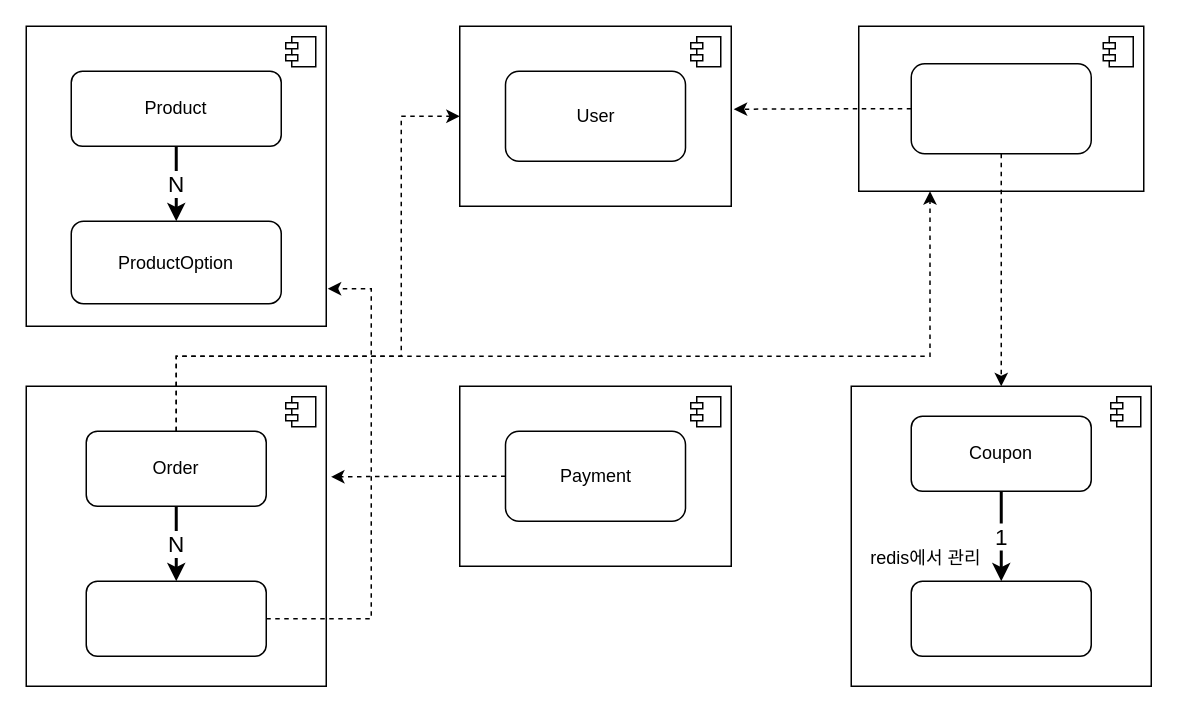
The diagram is 1178 pixels wide and 713 high, and some of its shapes have lost their labels. The box of each missing label's shape, as (x1, y1, x2, y2) in pixels:
CouponStock: (910, 580, 1091, 656)
OrderProduct: (85, 580, 266, 656)
UserCoupon: (910, 62, 1091, 154)
